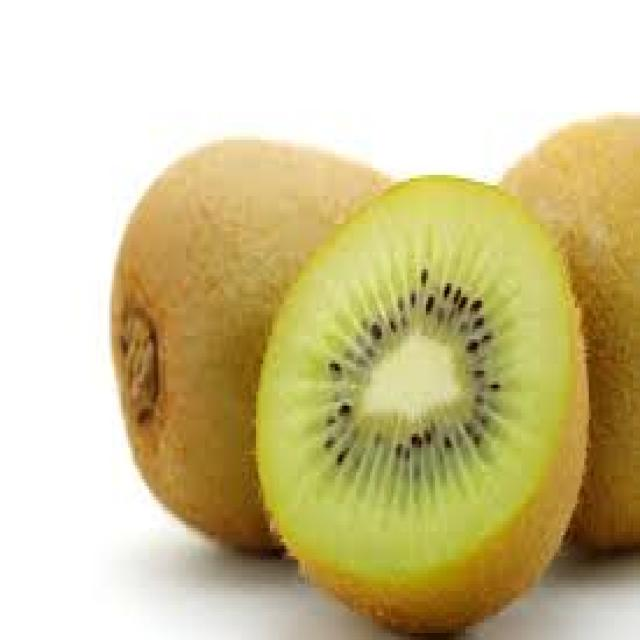food_waste: (112, 115, 638, 630)
